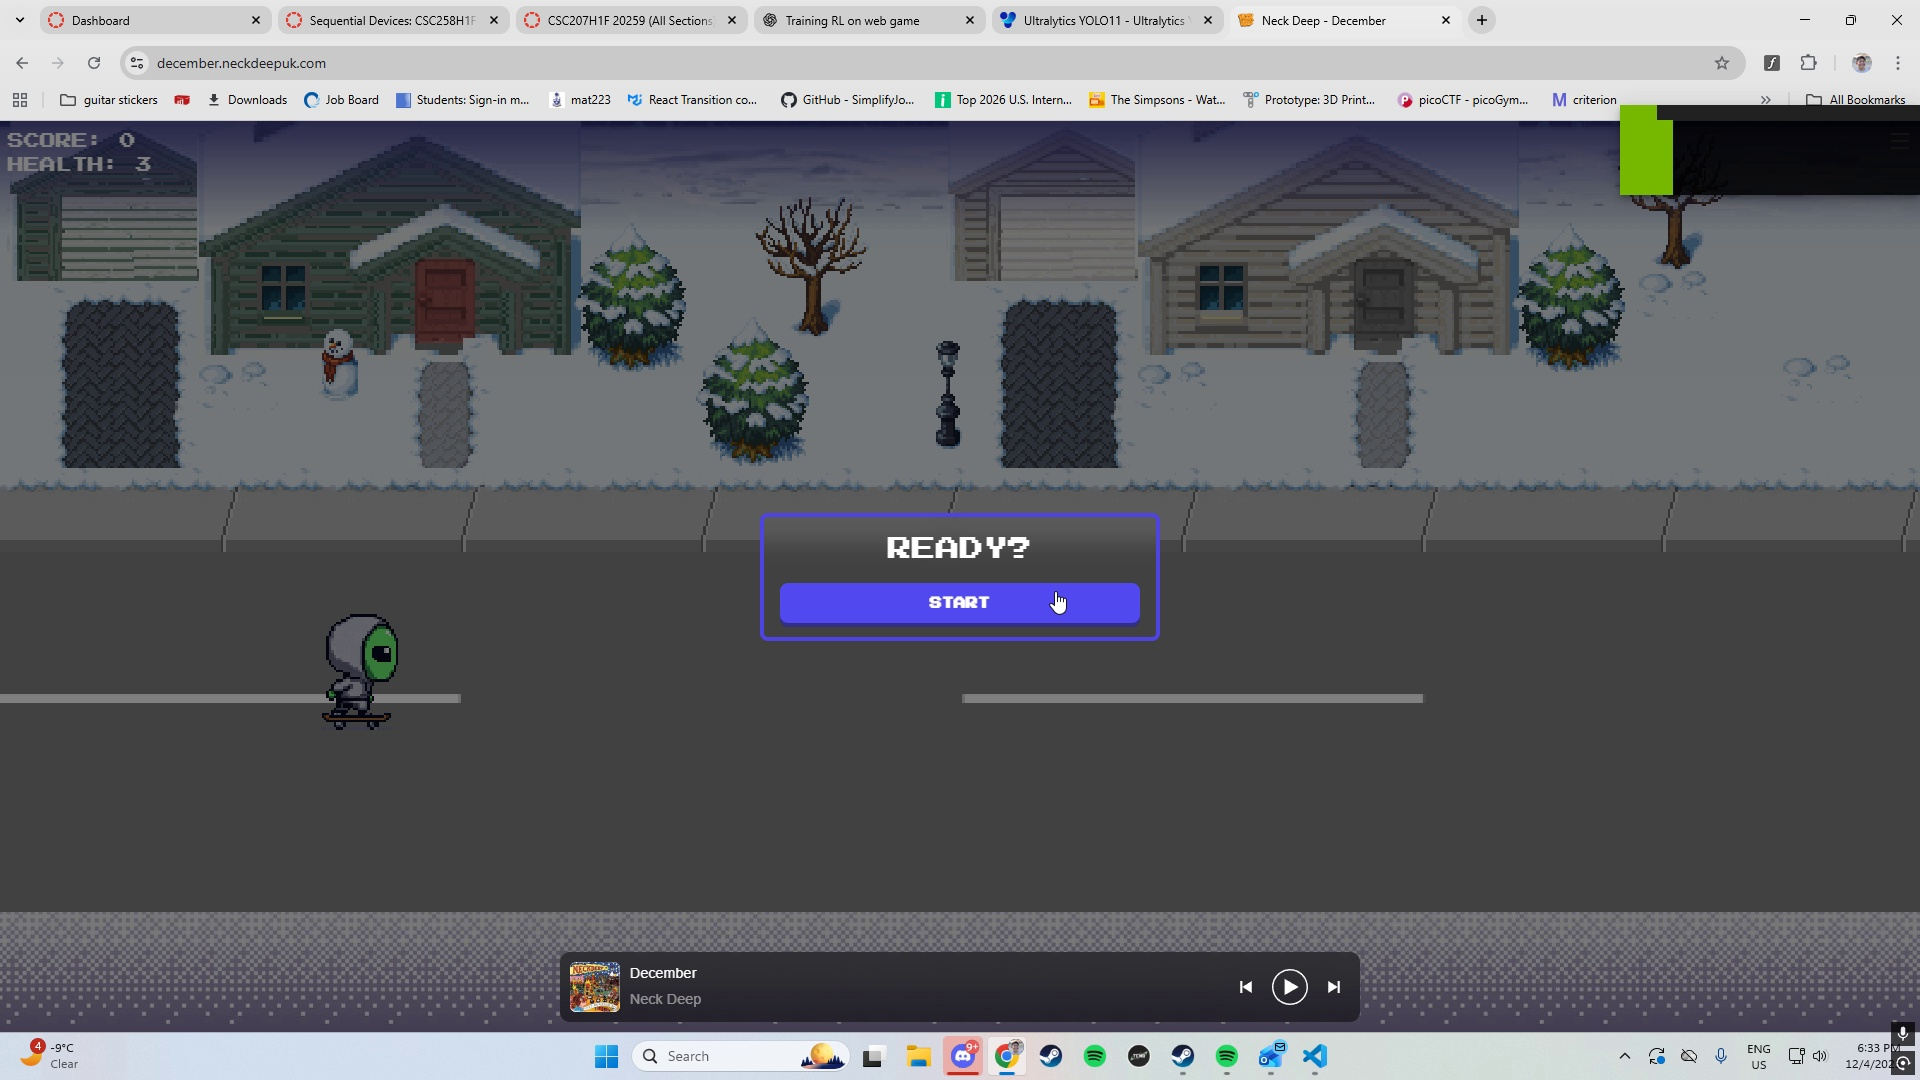Player: (307, 601, 407, 739)
